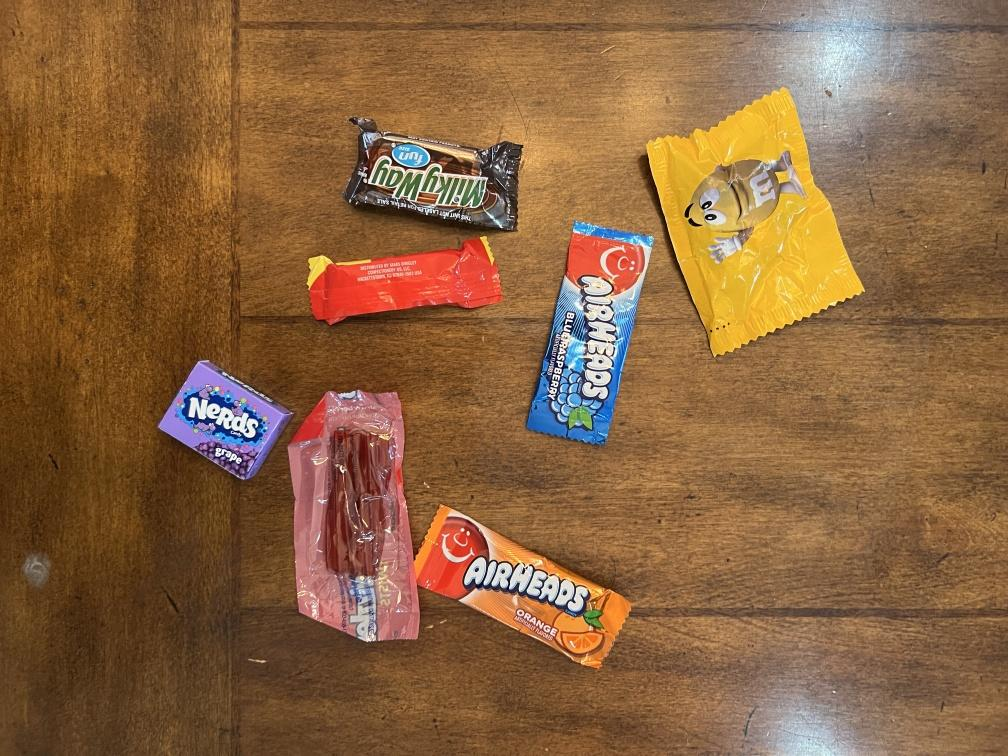MM_yellow: (644, 89, 863, 358)
airheads: (426, 505, 628, 666), (524, 223, 649, 439)
milky_way: (337, 119, 525, 232)
nerds: (159, 359, 300, 474)
starburst: (304, 236, 506, 323)
twizzlers: (288, 392, 424, 641)
